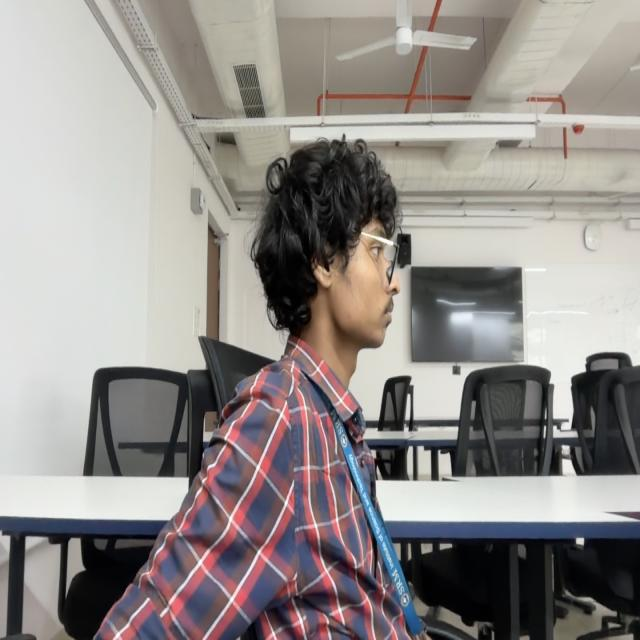darshan: (259, 137, 413, 350)
